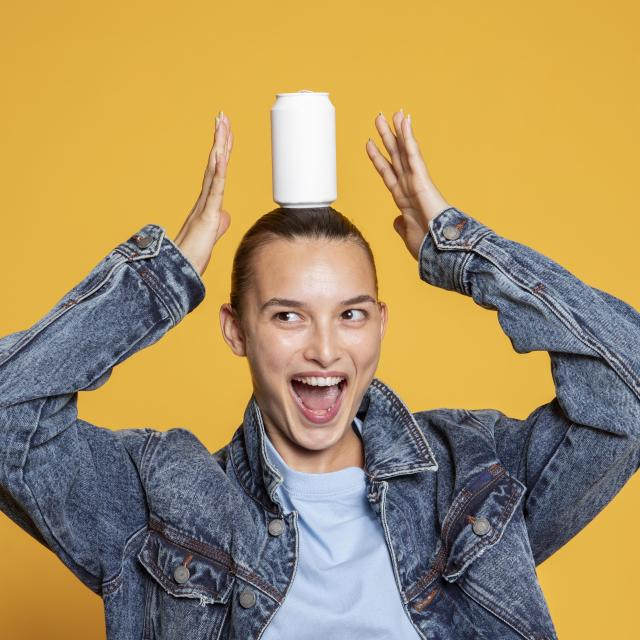can: (270, 92, 338, 208)
